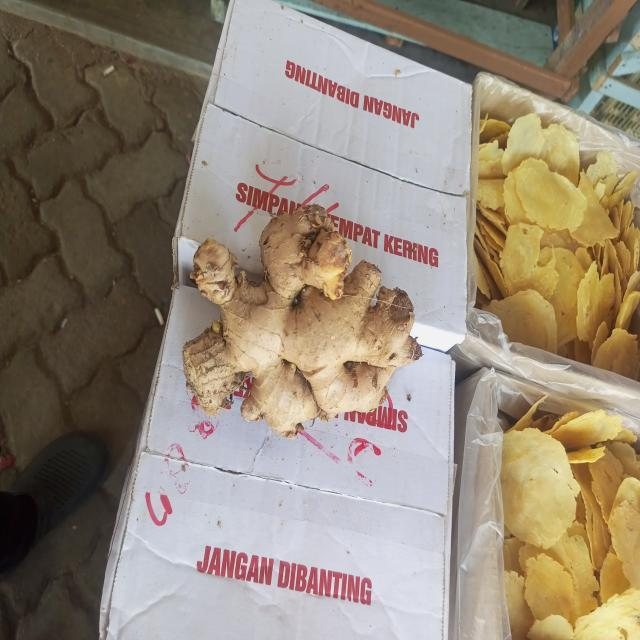ginger: (188, 205, 408, 422)
